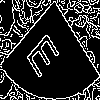E: (25, 25, 66, 80)
